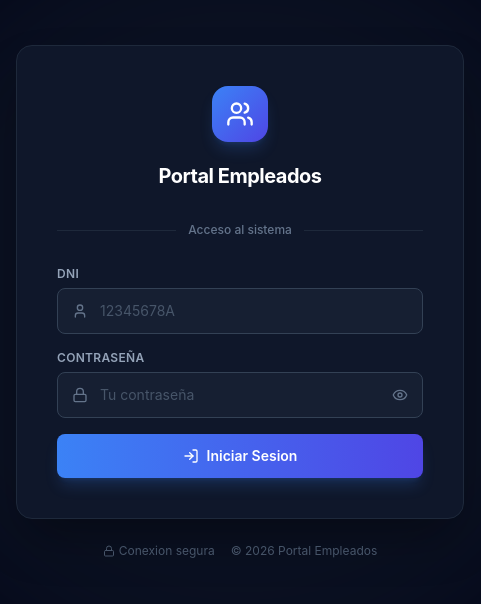
LoginPage › muestra error con credenciales incorrectas
Type "00000000X" into the field labelled "DNI" at x=255, y=311, box [88,289,422,333]
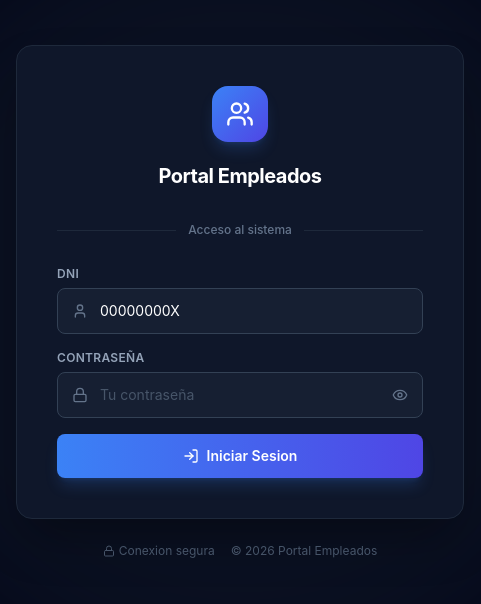
Type "wrong" into the password field labelled "Contraseña" at x=240, y=395, box [88,373,392,417]
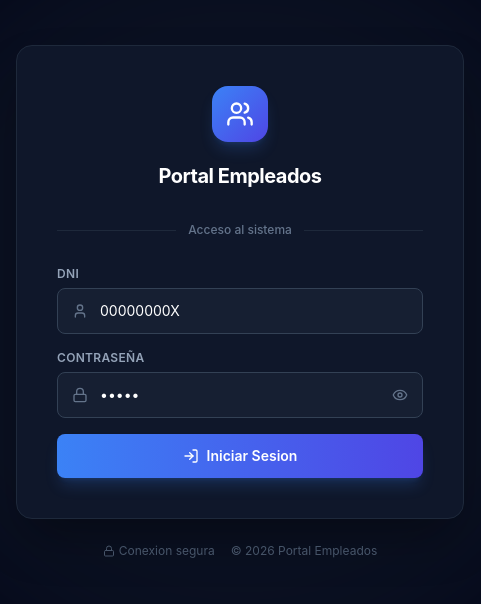
Click the button "Iniciar Sesion" at x=240, y=456, box [57,434,423,478]
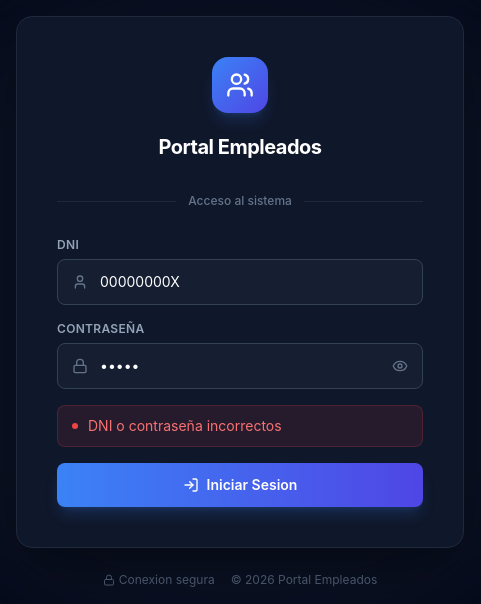
Expected: the text "DNI o contraseña incorrectos" is shown, [57,405,423,447]
